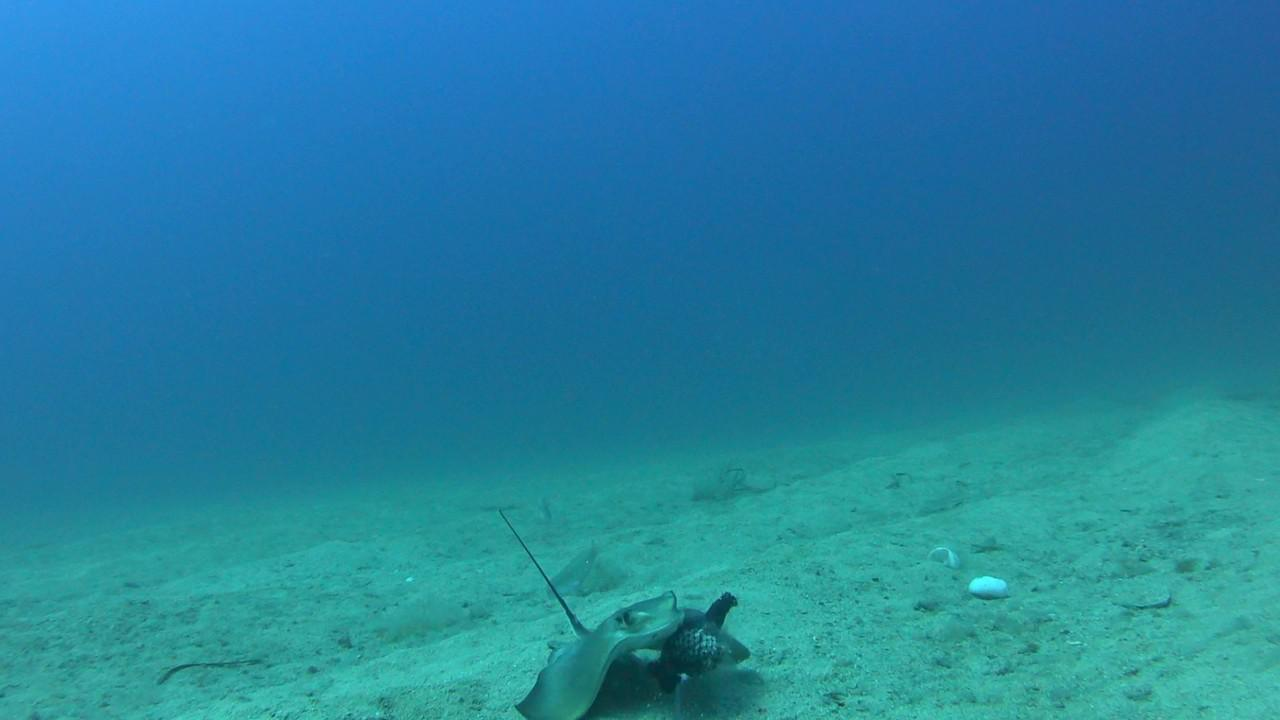myliobatis: (463, 498, 773, 719)
